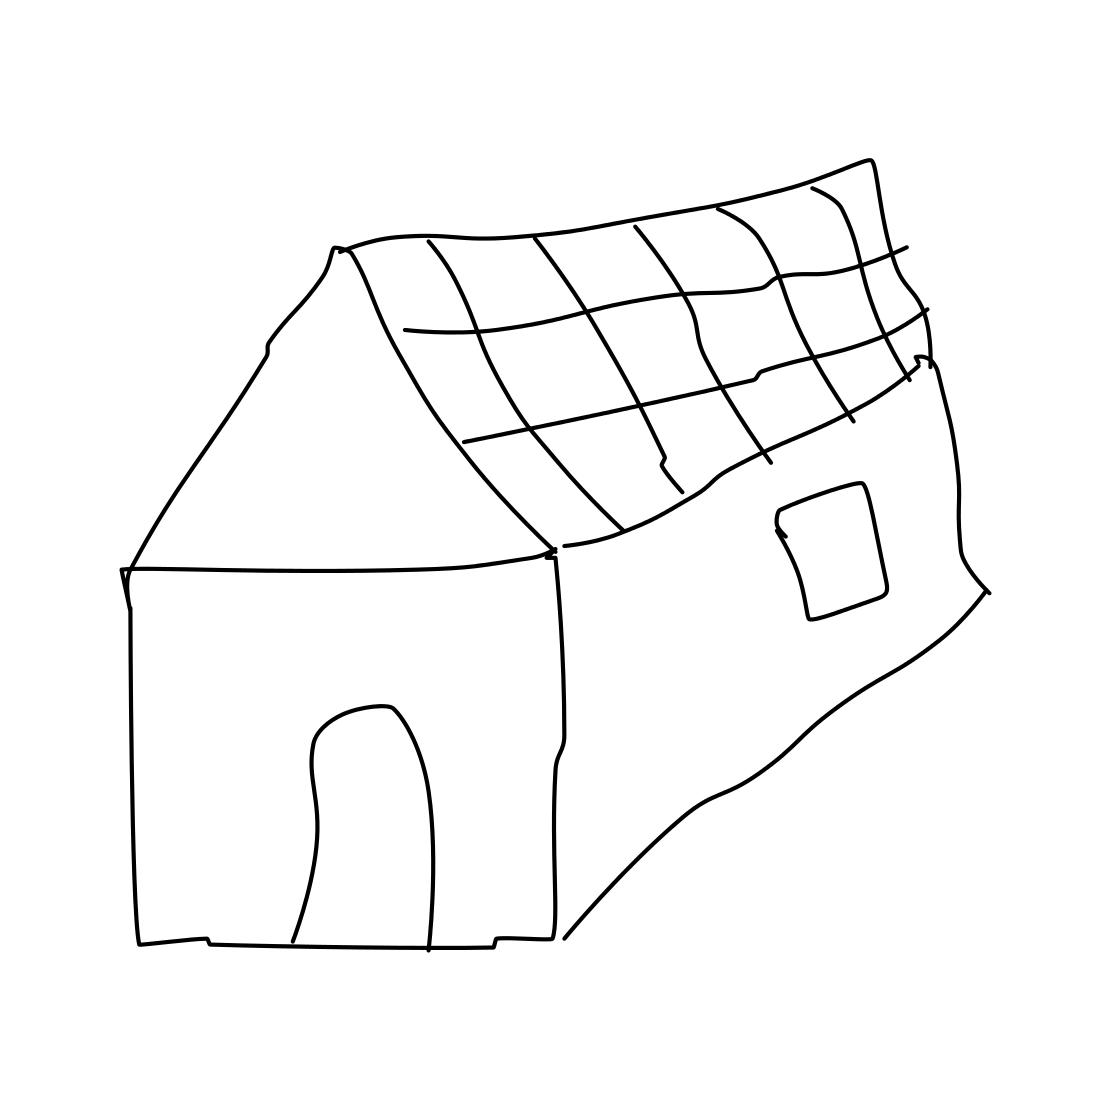House: (87, 139, 1006, 970)
